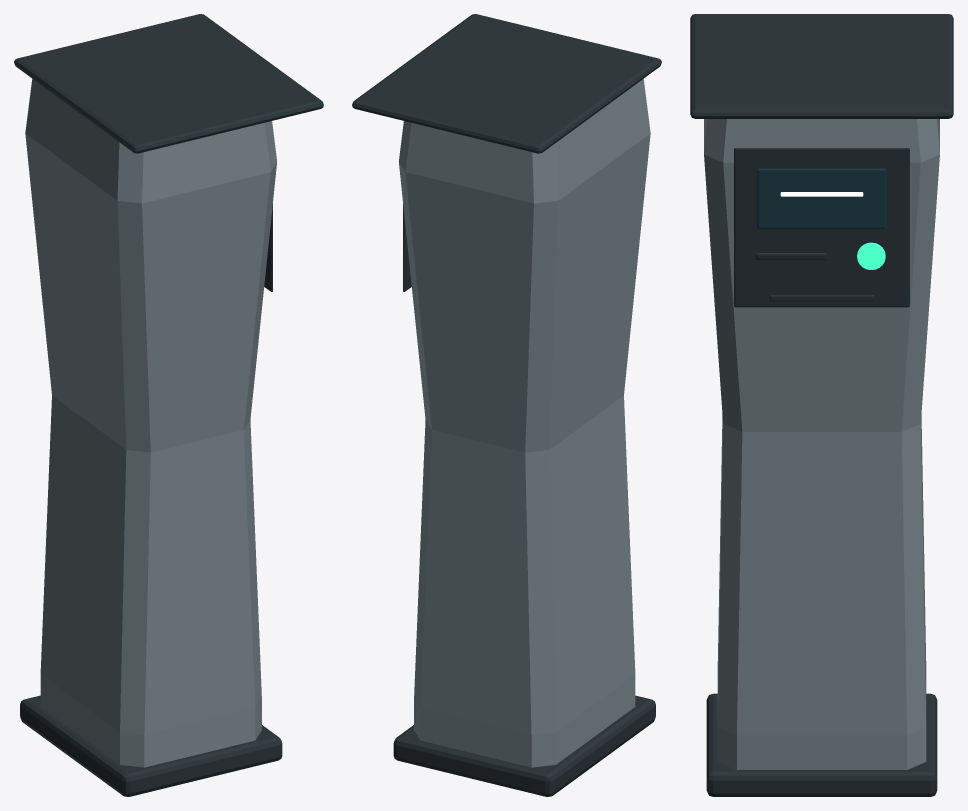
The model's file is SIMUS_Parking_PaymentMachine.fbx.
3 renders of one model, left to right at view 1: azimuth 30°, elevation 25°; view 2: azimuth 150°, elevation 25°; view 3: azimuth 270°, elevation 25°, orthographic. The views are drawn at different scales.
Parts seen in each view (by area): view 1: COL_PAYMENT_Housing, PAYMENT_Housing, PAYMENT_RainLip, PAYMENT_Foot; view 2: COL_PAYMENT_Housing, PAYMENT_Housing, PAYMENT_RainLip, PAYMENT_Foot; view 3: COL_PAYMENT_Housing, PAYMENT_Housing, PAYMENT_RainLip, PAYMENT_ControlRecess, PAYMENT_Foot, PAYMENT_Display, PAYMENT_ReceiptSlot, PAYMENT_FlushButton, PAYMENT_CardSlot.
Part boxes in pixels (box(x1,y1,x2,y2)): COL_PAYMENT_Housing: box(25, 79, 276, 767); PAYMENT_Housing: box(28, 81, 275, 766); PAYMENT_RainLip: box(14, 14, 323, 153); PAYMENT_Foot: box(20, 695, 282, 796); COL_PAYMENT_Housing: box(399, 79, 650, 767); PAYMENT_Housing: box(399, 119, 649, 766); PAYMENT_RainLip: box(352, 14, 661, 153); PAYMENT_Foot: box(393, 695, 655, 796); COL_PAYMENT_Housing: box(704, 119, 939, 769); PAYMENT_Housing: box(704, 119, 939, 769); PAYMENT_RainLip: box(690, 14, 953, 118); PAYMENT_ControlRecess: box(734, 148, 909, 307); PAYMENT_Foot: box(706, 693, 937, 796); PAYMENT_Display: box(757, 168, 886, 228); PAYMENT_ReceiptSlot: box(770, 295, 873, 301); PAYMENT_FlushButton: box(857, 242, 885, 269); PAYMENT_CardSlot: box(756, 253, 827, 259).
Bounding box in the file's own units: 43.5 × 142 × 48.
